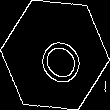O_NW: (25, 23, 85, 87)
